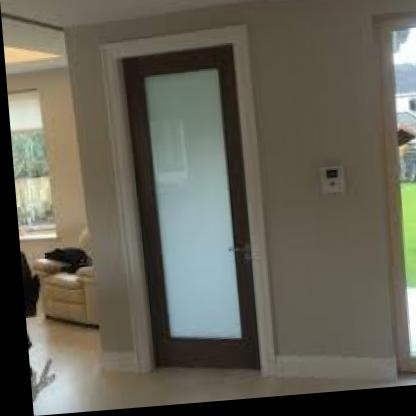door: (111, 46, 261, 378)
